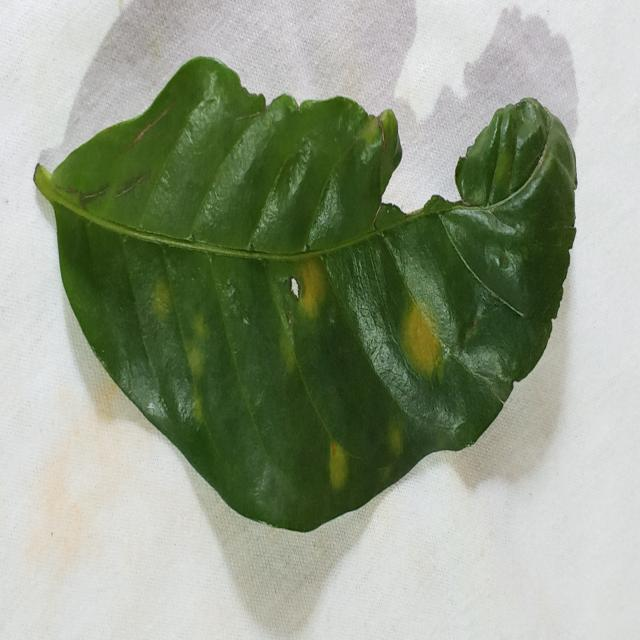Enfermedad-Roya: (32, 57, 579, 535)
